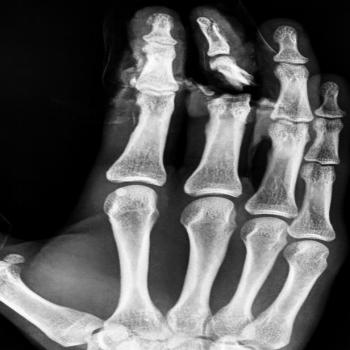Fracture: (213, 73, 260, 106)
